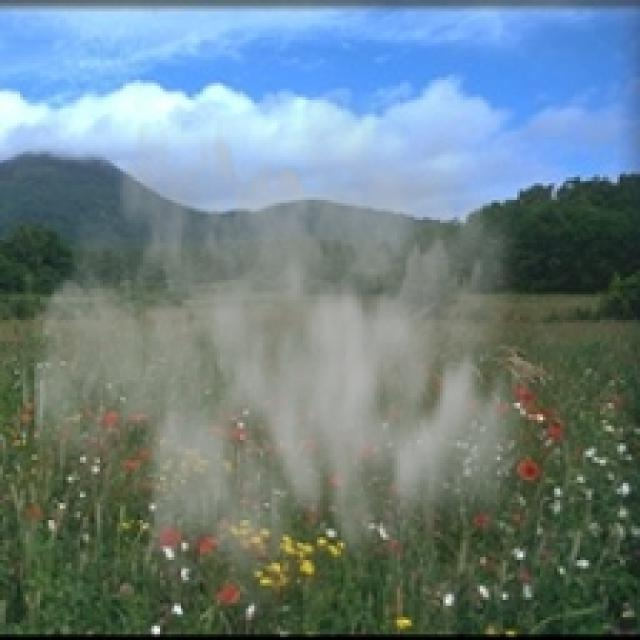Smoke: (34, 71, 560, 606)
